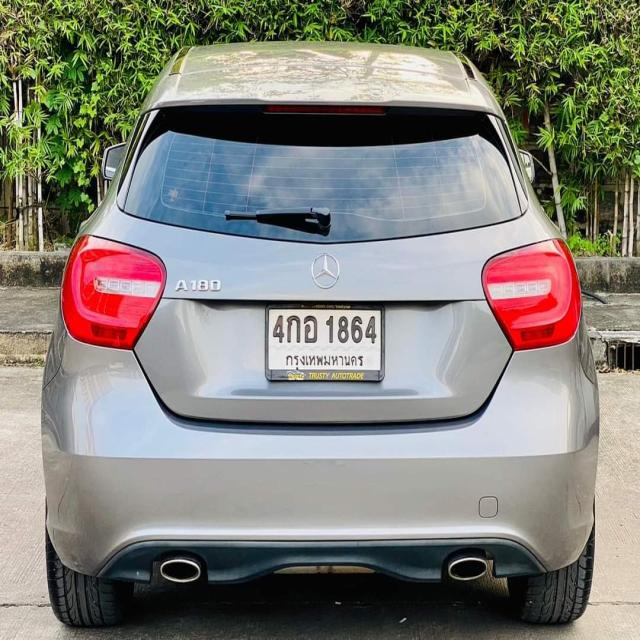license_plate: (264, 300, 386, 386)
